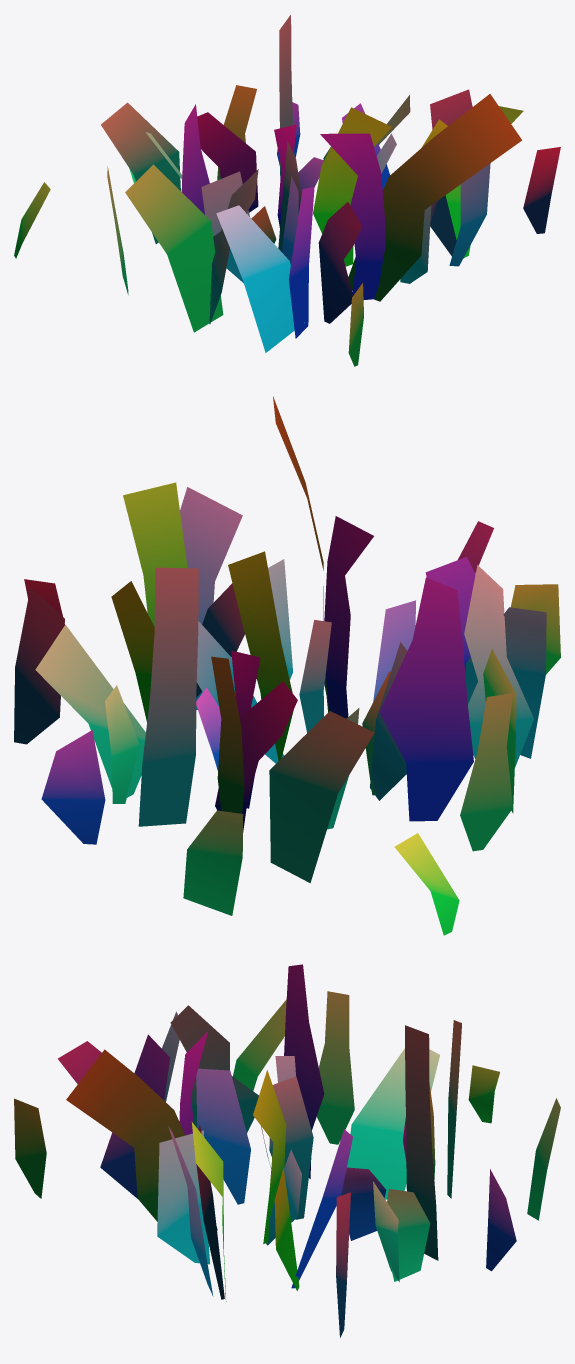
File: matted_pratia_c.fbx
3 renders of one model, top to bottom at view 1: azimuth 30°, elevation 25°; view 2: azimuth 150°, elevation 25°; view 3: azimuth 270°, elevation 25°, orthographic. The views are drawn at different scales.
Parts seen in each view (by area): view 1: _9a53_VarC_LOD1; view 2: _9a53_VarC_LOD1; view 3: _9a53_VarC_LOD1.
Boxes of the visible parts, x1,y1,x2,y2 form: _9a53_VarC_LOD1: (14, 15, 560, 366); _9a53_VarC_LOD1: (14, 396, 560, 935); _9a53_VarC_LOD1: (14, 964, 560, 1337).
Size of the model in its own units: 11.2 by 5.48 by 10.84.
